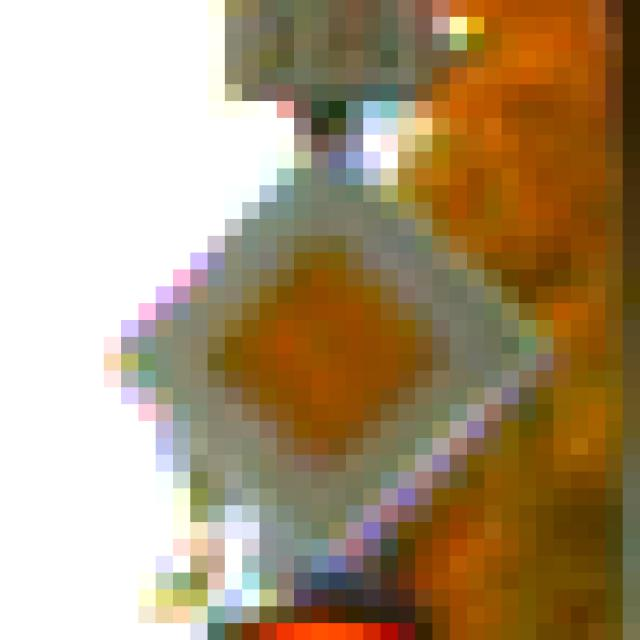Main Road: (105, 102, 554, 540)
